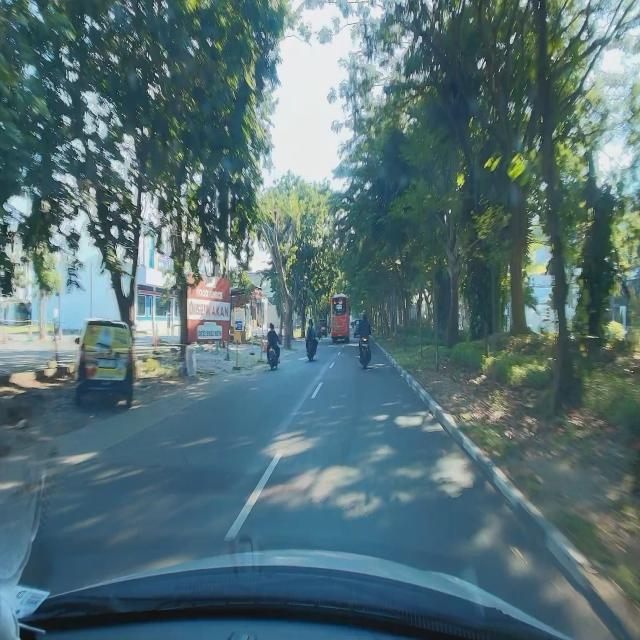bus: (330, 292, 350, 343)
